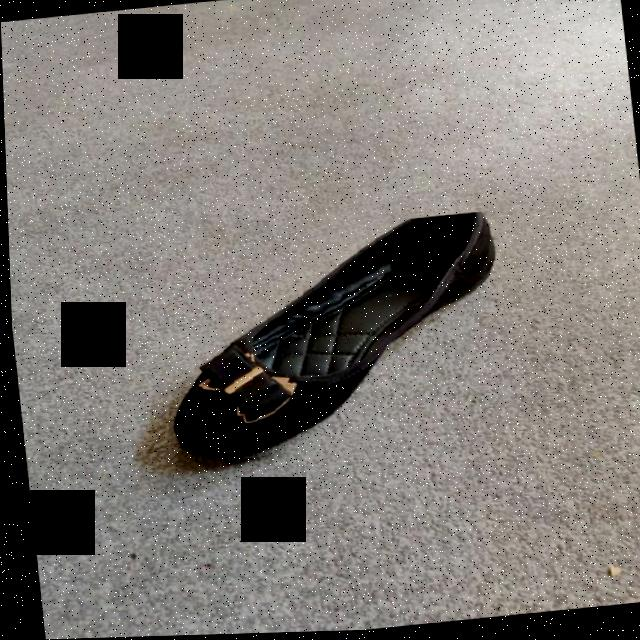shoe: (149, 213, 516, 470)
